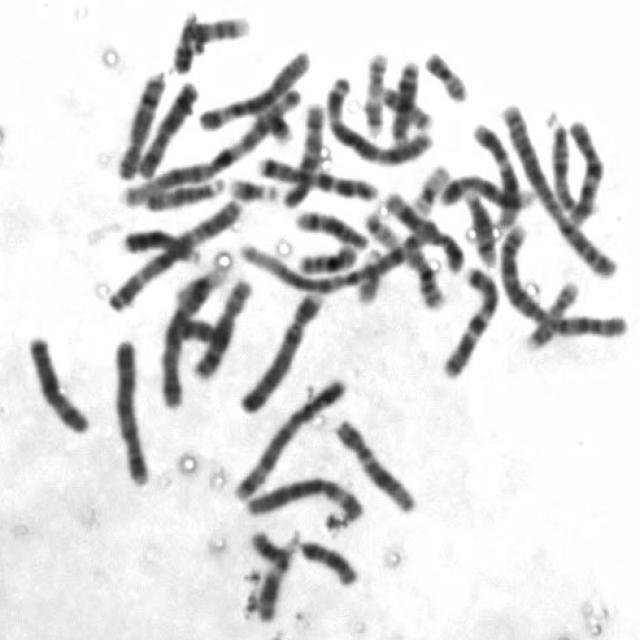A1: (115, 77, 304, 212), (234, 220, 440, 296)
A2: (496, 97, 620, 279), (493, 218, 631, 342)
A3: (104, 190, 248, 314), (319, 68, 439, 168)
B4: (234, 283, 326, 417), (108, 330, 154, 488)
B5: (229, 372, 349, 502), (154, 289, 222, 410)
C10: (276, 94, 328, 211), (564, 113, 606, 224)
C11: (380, 186, 465, 274), (248, 526, 299, 623)
C12: (330, 411, 420, 515), (466, 115, 523, 232)
C6: (194, 40, 316, 134), (239, 470, 367, 524)
C7: (436, 260, 501, 379), (254, 149, 383, 202)
C8: (187, 269, 257, 382), (109, 63, 168, 181)
C9: (166, 7, 253, 74), (436, 167, 539, 212)
D13: (116, 222, 202, 265), (385, 54, 422, 148)
D14: (291, 202, 371, 251), (457, 183, 501, 268)
D15: (539, 105, 576, 214), (130, 170, 226, 210)
E16: (402, 242, 447, 312), (292, 237, 361, 277)
E17: (523, 275, 582, 351), (357, 44, 391, 138)
E18: (295, 532, 361, 588), (174, 312, 228, 352)
F19: (404, 157, 452, 216), (174, 260, 232, 306)
F20: (418, 43, 471, 104), (375, 80, 435, 132)
G21: (223, 170, 280, 203), (182, 8, 209, 55)
G22: (352, 242, 384, 304), (360, 205, 401, 250)
X: (21, 327, 95, 437), (131, 74, 201, 181)
